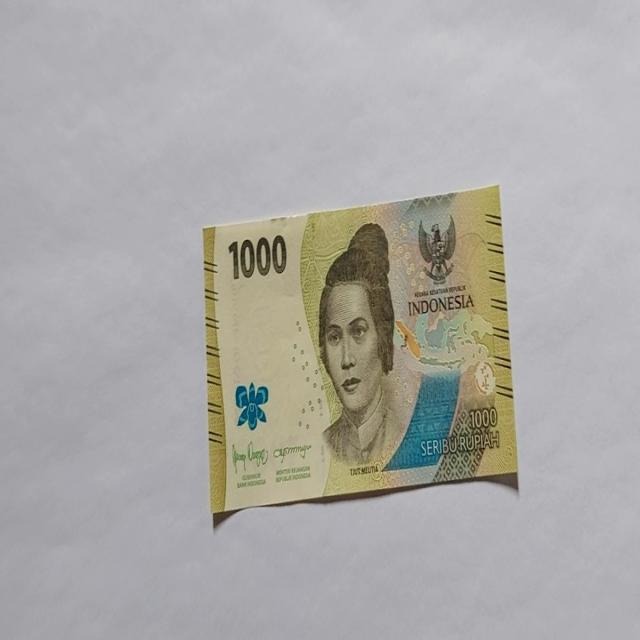seribu rupiah kertas: (202, 184, 518, 520)
